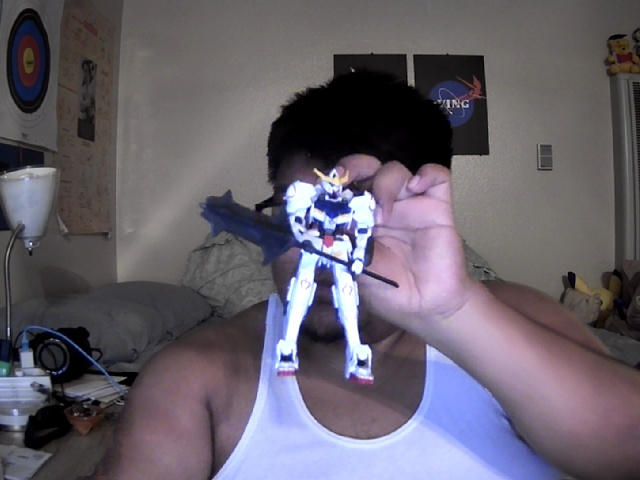Barbatos: (199, 166, 400, 387)
